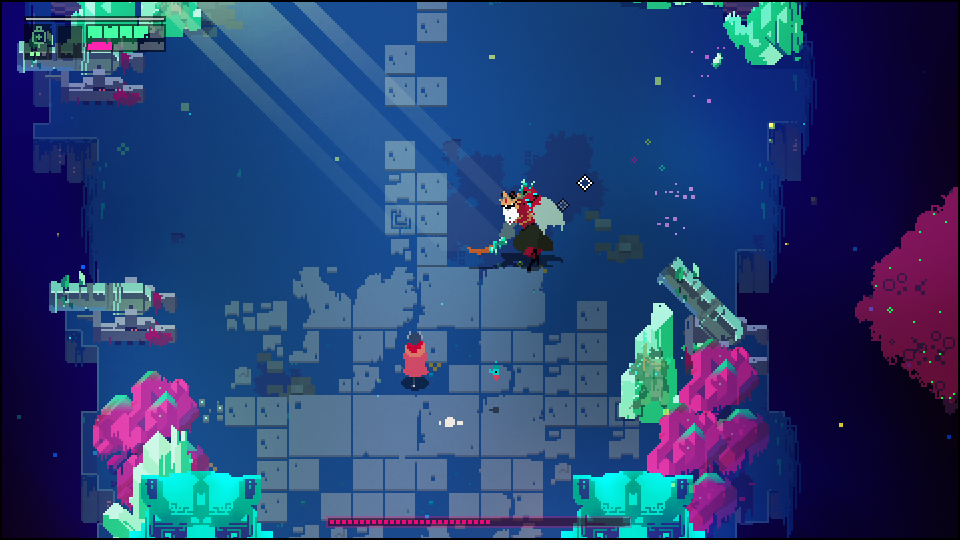hanged_man: (483, 177, 570, 278)
player: (387, 325, 424, 390)
